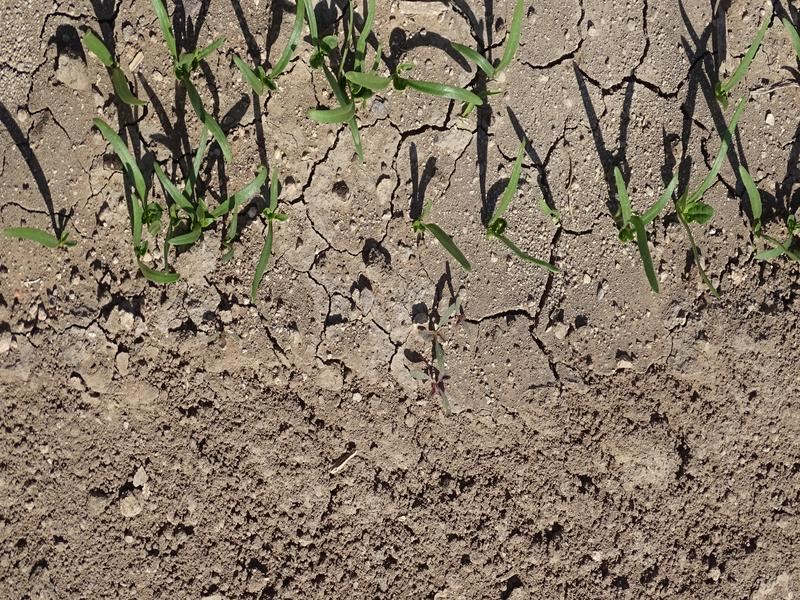Espinaca: (72, 1, 301, 294), (602, 101, 798, 284), (307, 3, 528, 116), (492, 145, 566, 277), (712, 11, 800, 91), (404, 196, 465, 271), (5, 225, 71, 252)
